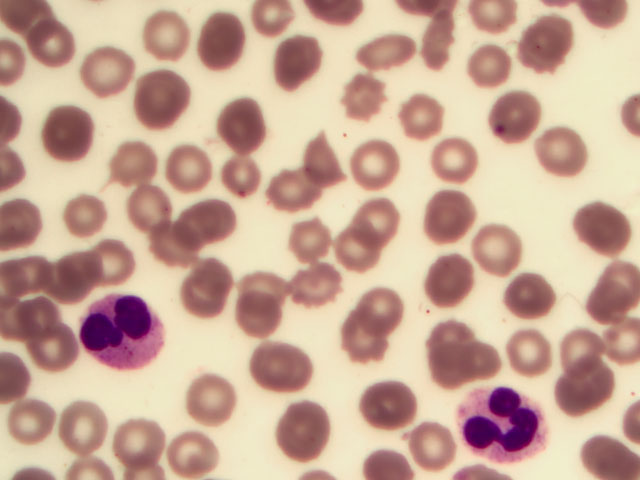RBC: (29, 18, 80, 70), (78, 42, 129, 94), (47, 105, 98, 157), (132, 76, 183, 128), (138, 12, 189, 64), (199, 14, 250, 66), (265, 36, 316, 88), (359, 26, 410, 78), (340, 75, 391, 127), (398, 90, 449, 142), (409, 19, 460, 71), (462, 44, 513, 96), (518, 20, 569, 72), (489, 89, 540, 141), (529, 121, 580, 173), (432, 136, 483, 188), (347, 136, 398, 188), (300, 138, 351, 190), (269, 163, 320, 215), (210, 152, 261, 204), (218, 101, 269, 153), (165, 144, 216, 196), (110, 135, 161, 187), (117, 178, 168, 230), (146, 214, 197, 266), (189, 192, 240, 244), (88, 238, 139, 290), (50, 251, 101, 303), (56, 186, 107, 238), (13, 254, 64, 306), (13, 289, 64, 341), (22, 324, 73, 376), (7, 401, 58, 453), (54, 403, 105, 455), (114, 416, 165, 468), (171, 428, 222, 480), (175, 365, 226, 417), (255, 350, 306, 402), (239, 287, 290, 339), (238, 259, 289, 311), (175, 278, 226, 330), (179, 257, 230, 309), (286, 249, 337, 301), (286, 217, 337, 269), (336, 226, 387, 278), (348, 193, 399, 245), (412, 191, 463, 243), (478, 222, 529, 274), (578, 203, 629, 255), (589, 277, 640, 329), (563, 320, 614, 372), (554, 357, 605, 409), (502, 327, 553, 379), (503, 281, 554, 333), (457, 337, 508, 389), (420, 345, 471, 397), (423, 314, 474, 366), (419, 253, 470, 305), (356, 280, 407, 332), (333, 323, 384, 375), (283, 407, 334, 459), (364, 380, 415, 432), (404, 415, 455, 467), (589, 428, 640, 480)
WBC: (79, 289, 165, 376), (457, 386, 550, 464)
